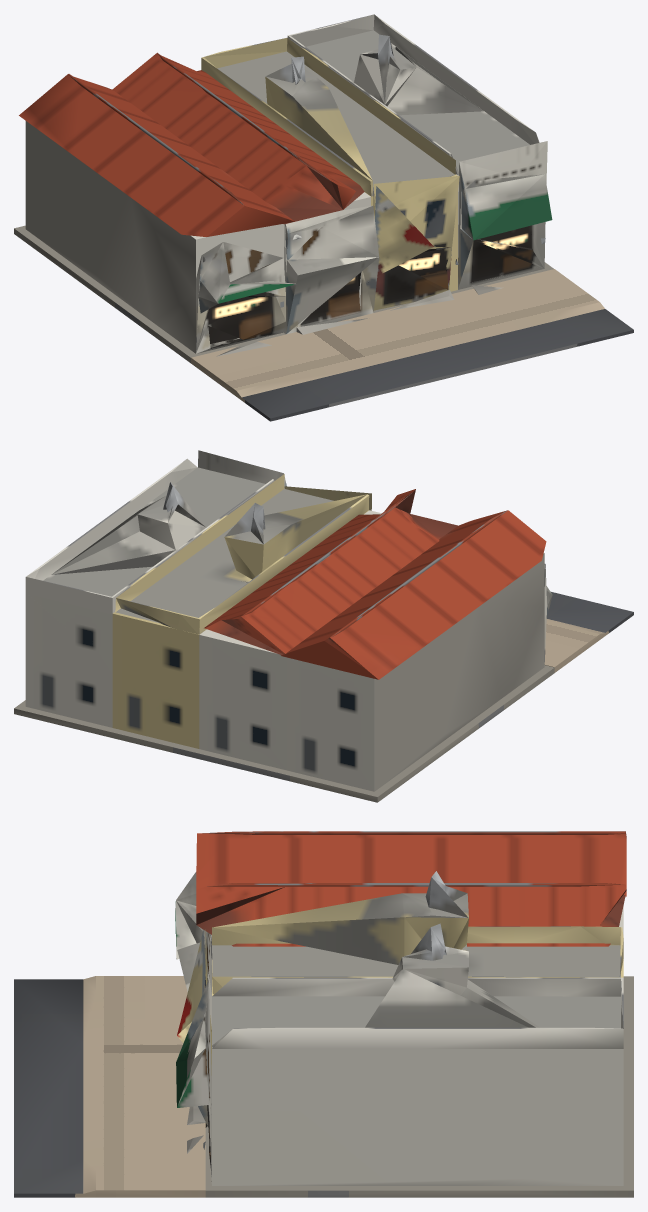
The model's file is quang_trung_4_10.far.glb.
The picture shows the model from 3 angles, top to bottom: view 1: azimuth 30°, elevation 25°; view 2: azimuth 150°, elevation 25°; view 3: azimuth 270°, elevation 25°; orthographic projection. The views are drawn at different scales.
Parts seen in each view (by area): view 1: quang_trung_4_10; view 2: quang_trung_4_10; view 3: quang_trung_4_10.
Part boxes in pixels (x1=…): quang_trung_4_10: x1=14, y1=14, x2=633, y2=421; quang_trung_4_10: x1=14, y1=450, x2=633, y2=802; quang_trung_4_10: x1=14, y1=831, x2=633, y2=1197.
Size of the model in its own units: 24.3 by 12.03 by 29.68.
13 materials, 13 textured.
